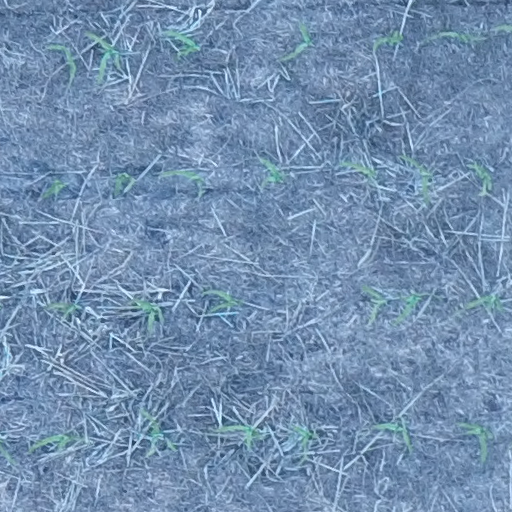planta: (85, 30, 121, 83), (140, 408, 177, 456), (399, 153, 432, 203), (457, 421, 493, 462), (213, 423, 264, 448), (128, 296, 163, 332), (279, 22, 312, 60), (27, 432, 86, 453), (372, 421, 412, 450), (391, 291, 425, 325), (163, 28, 199, 60), (47, 43, 76, 77), (201, 288, 242, 312), (291, 424, 317, 461), (361, 284, 386, 322), (468, 162, 492, 195), (338, 160, 376, 180), (463, 293, 504, 311), (260, 157, 286, 185), (372, 29, 403, 50), (161, 169, 203, 183), (43, 301, 79, 317), (433, 29, 480, 41), (41, 178, 66, 198), (113, 172, 135, 194)
